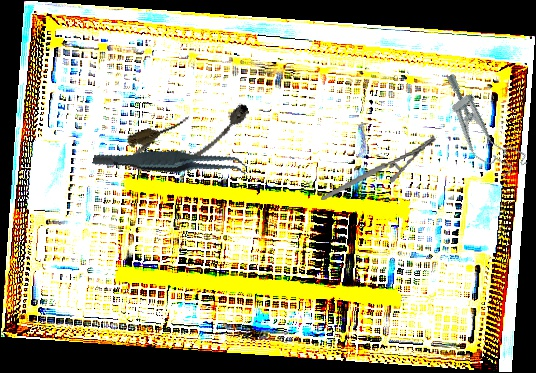Cannula: (122, 95, 258, 180)
Needle Holder: (314, 135, 443, 201)
Speculum: (426, 67, 531, 187)
Tissue Forceps: (91, 121, 250, 204)
